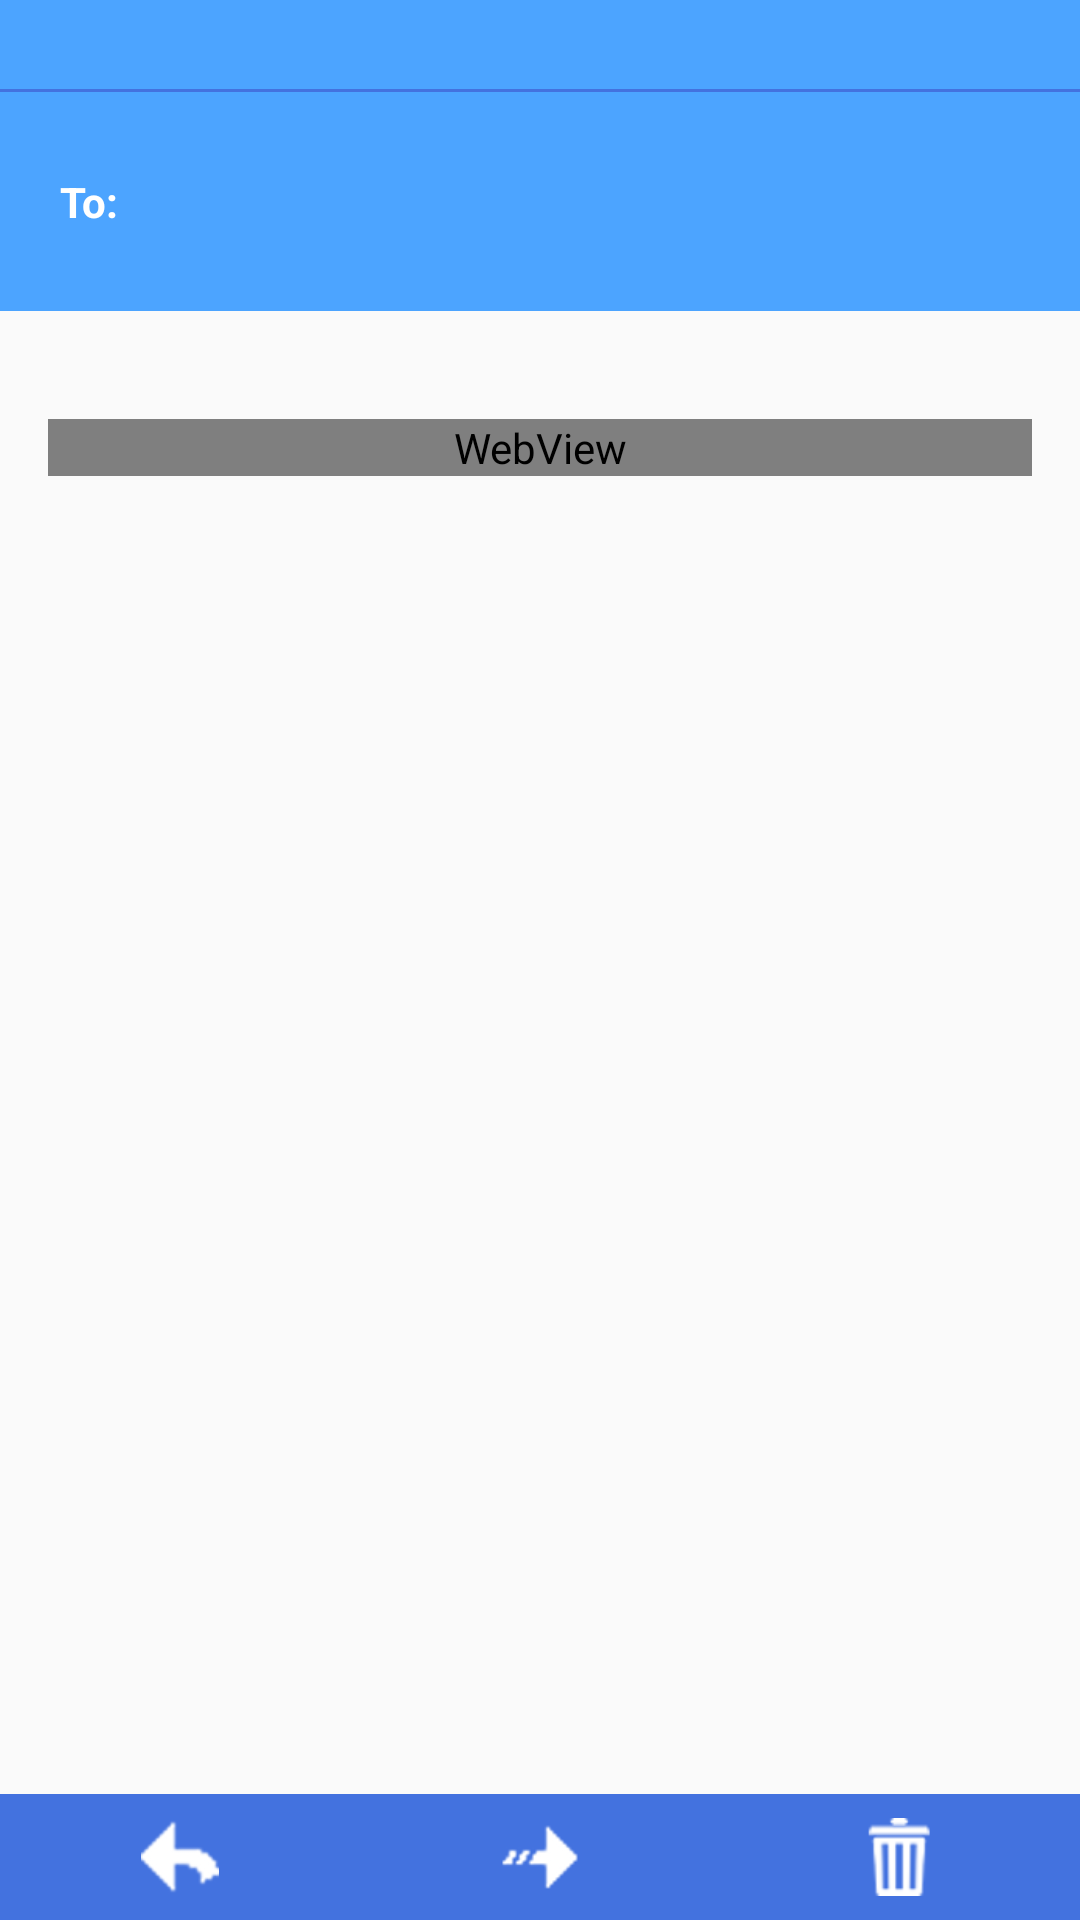

Screen size 1080px x 1920px. Icon name, then its center in pixels as point (x, y):
delete: point (899, 1857)
forward: point (540, 1857)
reply: point (180, 1857)
